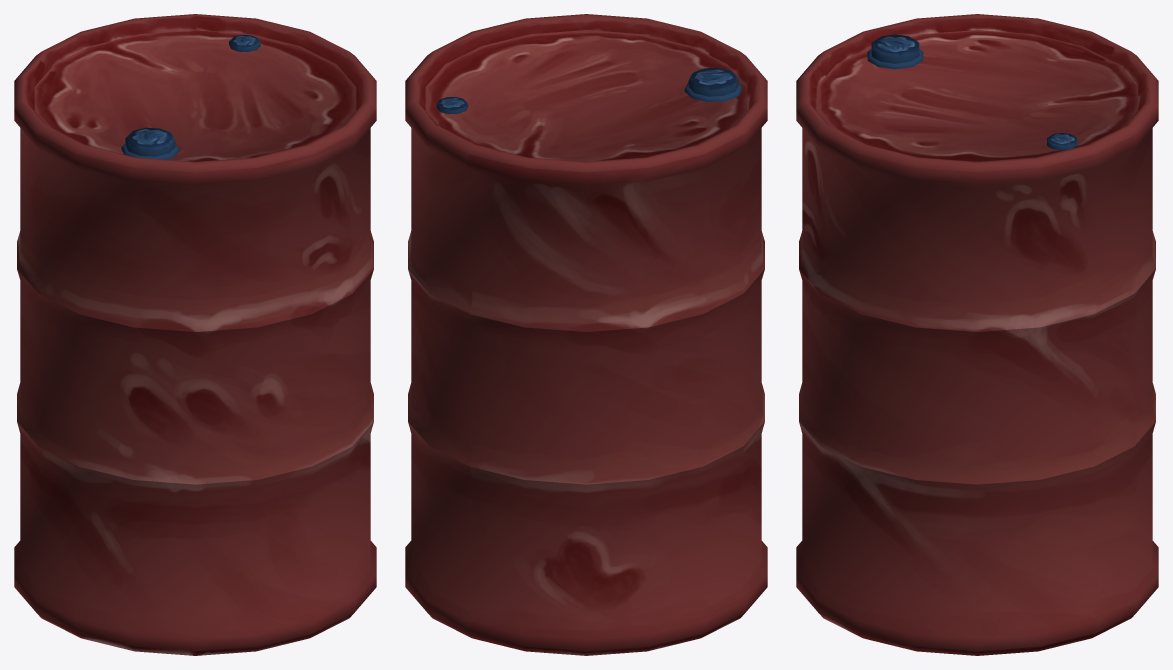
The model's file is barrel.fbx.
3 views of the same model, side by side, from view 1: azimuth 30°, elevation 25°; view 2: azimuth 150°, elevation 25°; view 3: azimuth 270°, elevation 25° (orthographic).
Parts seen in each view (by area): view 1: Barrel; view 2: Barrel; view 3: Barrel.
Part boxes in pixels (bbox=[...]): Barrel: bbox=[14, 14, 376, 655]; Barrel: bbox=[405, 14, 767, 655]; Barrel: bbox=[796, 14, 1158, 655].
Bounding box in the file's own units: 61.94 × 91.81 × 60.99.
Materials: 1 (1 with a texture image).
